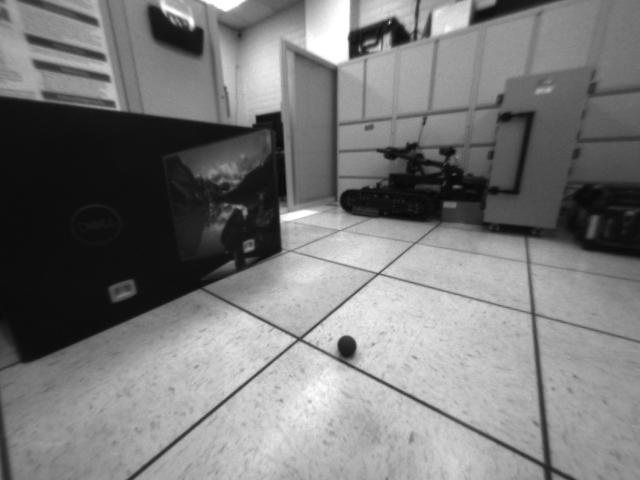dogtoy: (334, 329, 366, 360)
